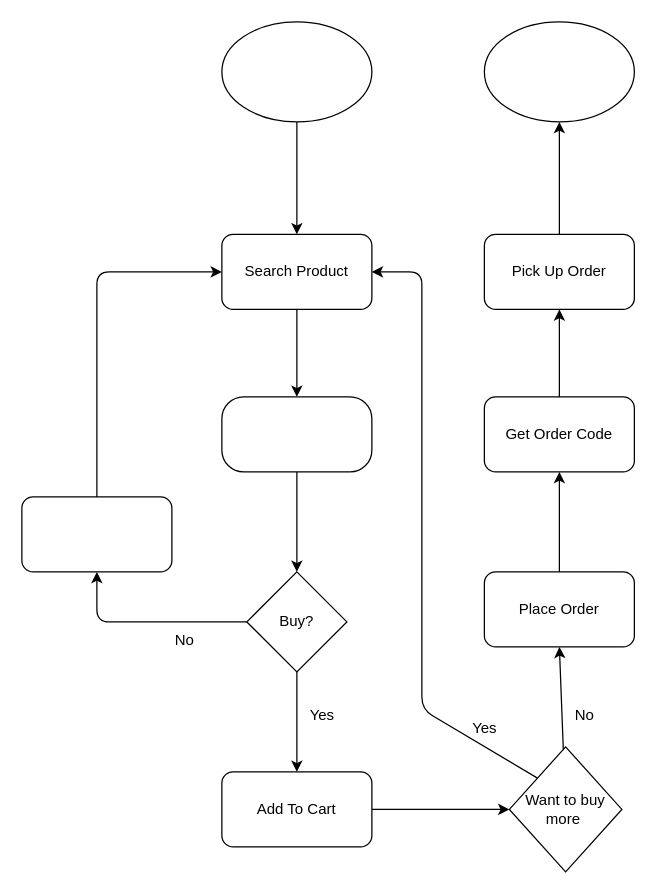
Image size: 656x894. Some labels were removed from this diagram. Each missing label, with the box of its shape:
Choose Product: (221, 396, 372, 472)
Keep Browsing: (21, 496, 172, 572)
Start: (221, 21, 372, 122)
Stop: (483, 21, 634, 122)
